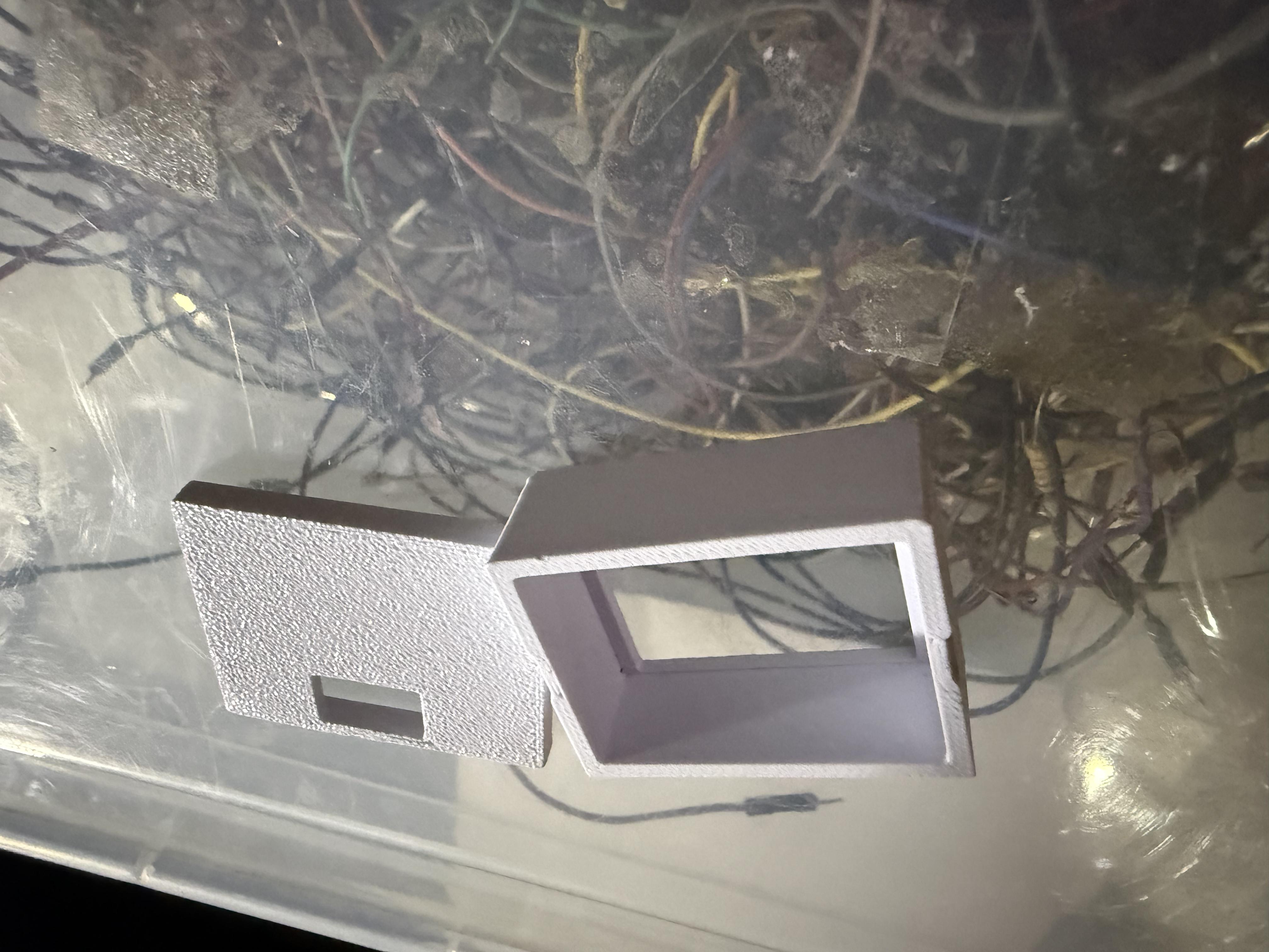enclosure: (171, 418, 976, 779)
